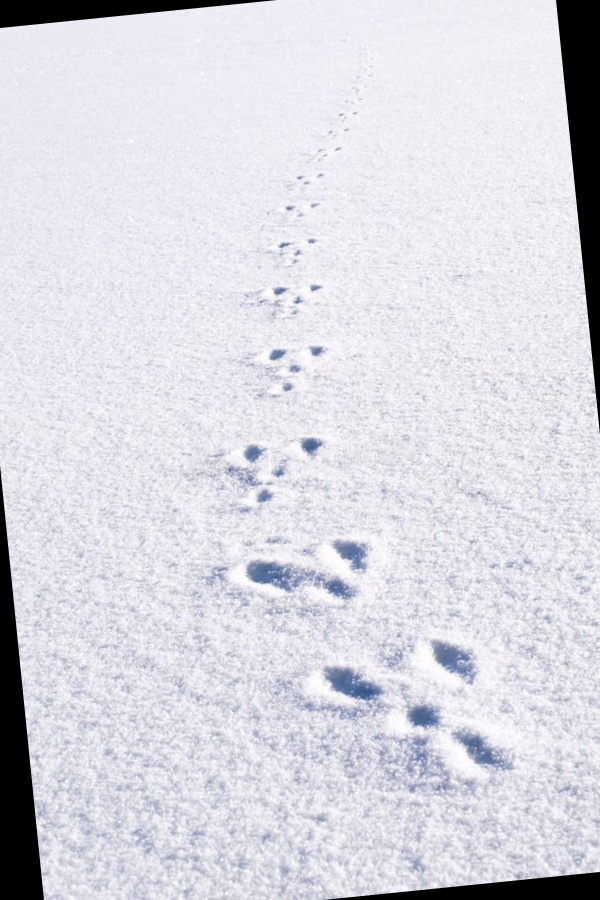rabbit: (283, 618, 529, 830)
